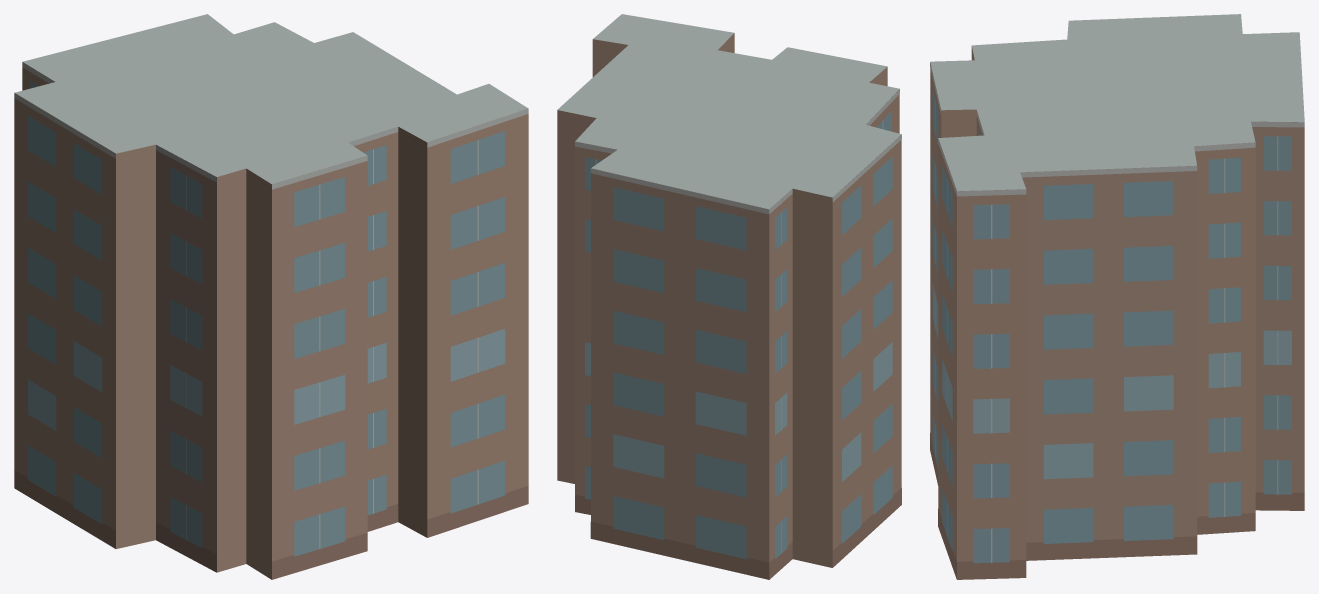
The model's file is survey-upis-32748052.glb.
The picture shows the model from 3 angles, left to right: view 1: azimuth 30°, elevation 25°; view 2: azimuth 150°, elevation 25°; view 3: azimuth 270°, elevation 25°; orthographic projection. The views are drawn at different scales.
Parts seen in each view (by area): view 1: survey-upis-32748052.tmp; view 2: survey-upis-32748052.tmp; view 3: survey-upis-32748052.tmp.
Boxes of the visible parts, <box> form: survey-upis-32748052.tmp: <box>14,14,528,579</box>; survey-upis-32748052.tmp: <box>557,14,901,579</box>; survey-upis-32748052.tmp: <box>930,14,1304,579</box>.
Bounding box in the file's own units: 17.61 × 18 × 15.73.
